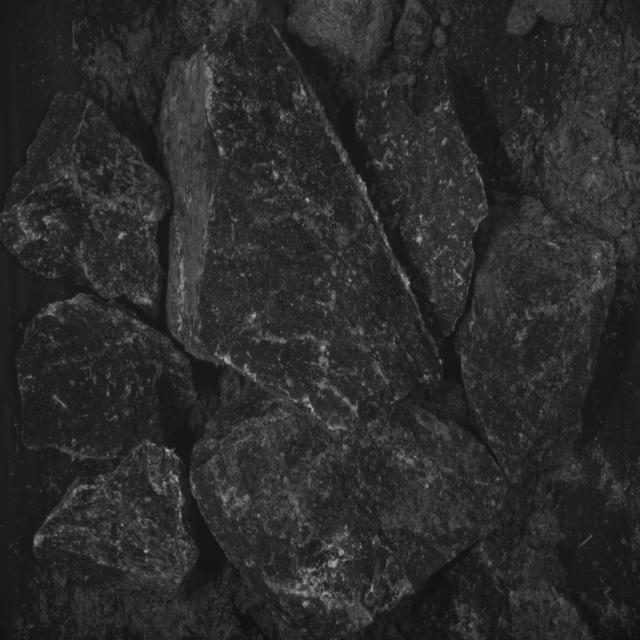Stones: (161, 25, 441, 433), (191, 395, 506, 639), (457, 199, 616, 482), (1, 94, 171, 317), (357, 55, 489, 338), (17, 295, 197, 460), (35, 441, 200, 593), (287, 1, 394, 74)
